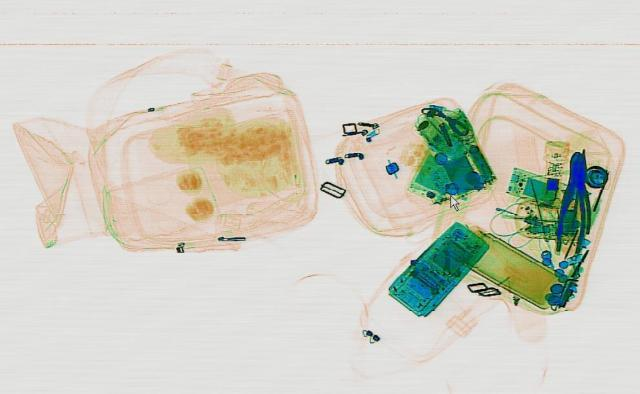Pliers: (551, 148, 599, 252), (552, 151, 596, 231)
